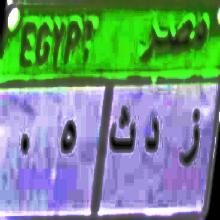0: (18, 123, 30, 166)
5: (59, 113, 77, 162)
daal: (143, 114, 161, 161)
thaa: (108, 102, 136, 166)
zay: (176, 102, 202, 180)
